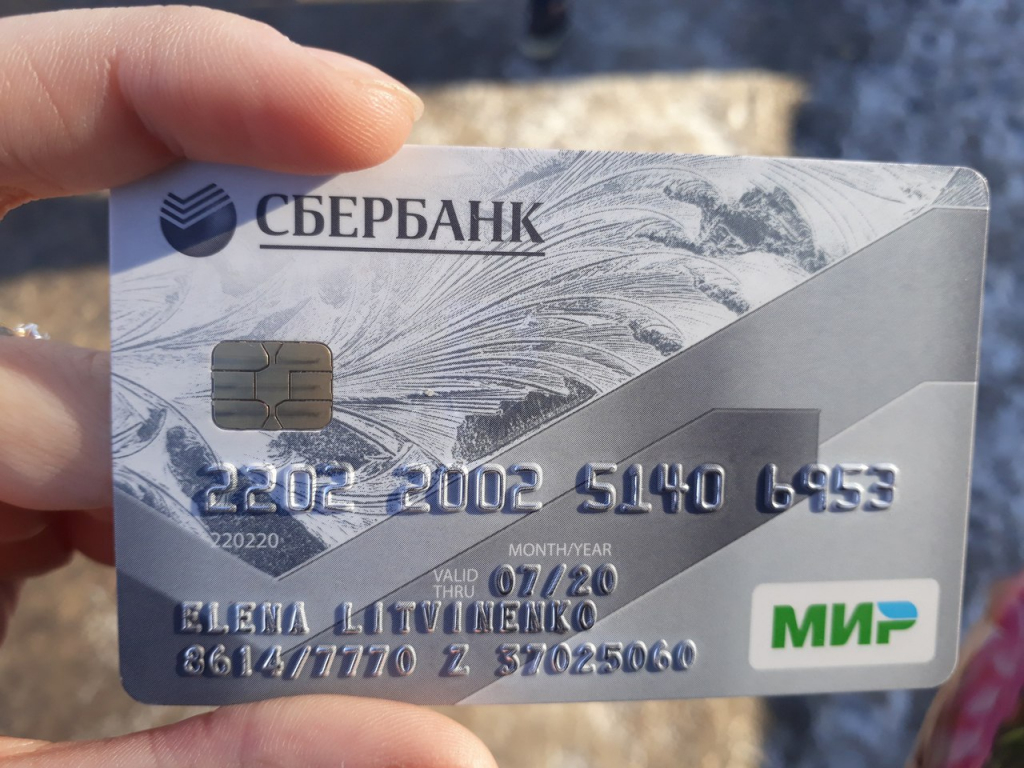card: (105, 140, 992, 704)
